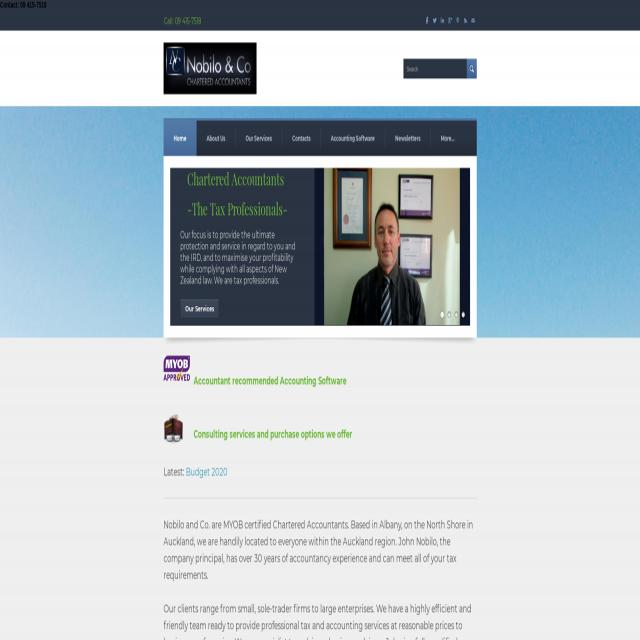button: (314, 167, 469, 325), (164, 43, 256, 94), (321, 120, 385, 156), (235, 120, 282, 156), (385, 120, 430, 156), (197, 120, 235, 156), (282, 120, 320, 156), (431, 120, 464, 156), (164, 120, 196, 156), (180, 298, 219, 319), (164, 409, 184, 445), (163, 356, 190, 380), (467, 58, 477, 78), (431, 15, 438, 26), (454, 15, 461, 26), (424, 15, 430, 26), (439, 15, 445, 26), (447, 15, 453, 26), (462, 15, 468, 26), (470, 15, 476, 26), (439, 309, 445, 320), (447, 309, 452, 320), (460, 310, 466, 319), (454, 310, 458, 319)
field: (403, 58, 467, 78)
